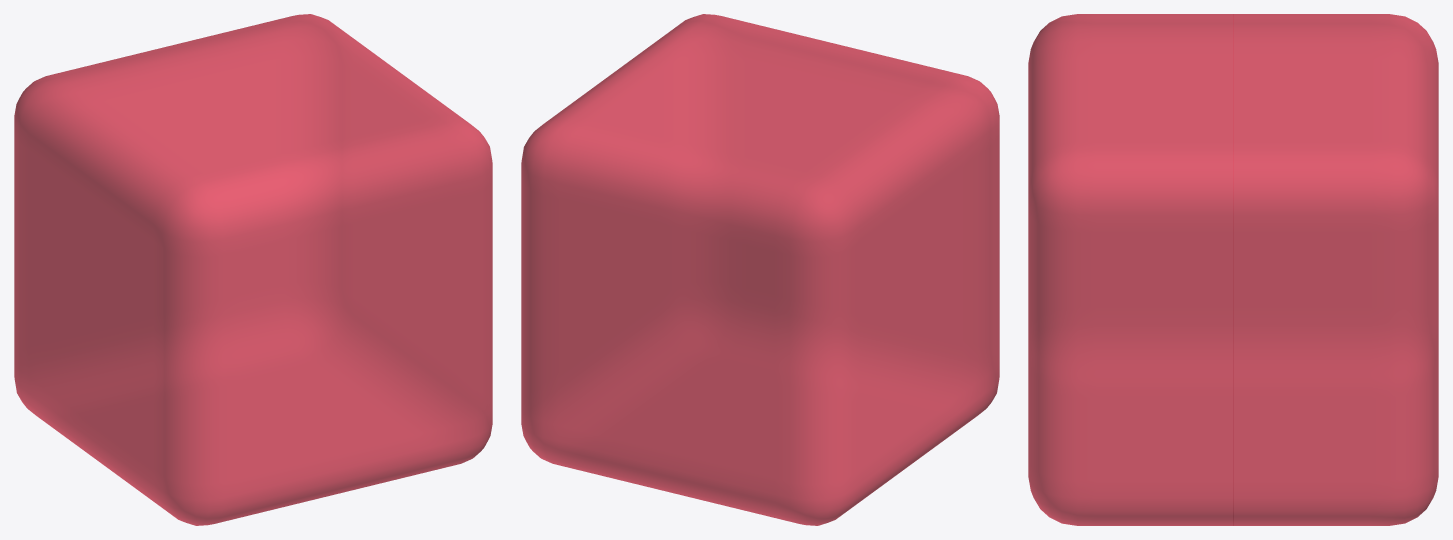
The model's file is SlockJelly.fbx.
The picture shows the model from 3 angles, left to right: view 1: azimuth 30°, elevation 25°; view 2: azimuth 150°, elevation 25°; view 3: azimuth 270°, elevation 25°; orthographic projection. The views are drawn at different scales.
Parts seen in each view (by area): view 1: SlockJelly; view 2: SlockJelly; view 3: SlockJelly.
Part boxes in pixels (box(x1,y1,x2,y2)): SlockJelly: box(14, 14, 492, 525); SlockJelly: box(521, 14, 999, 525); SlockJelly: box(1028, 14, 1438, 525).
Size of the model in its own units: 1 by 1 by 1.
